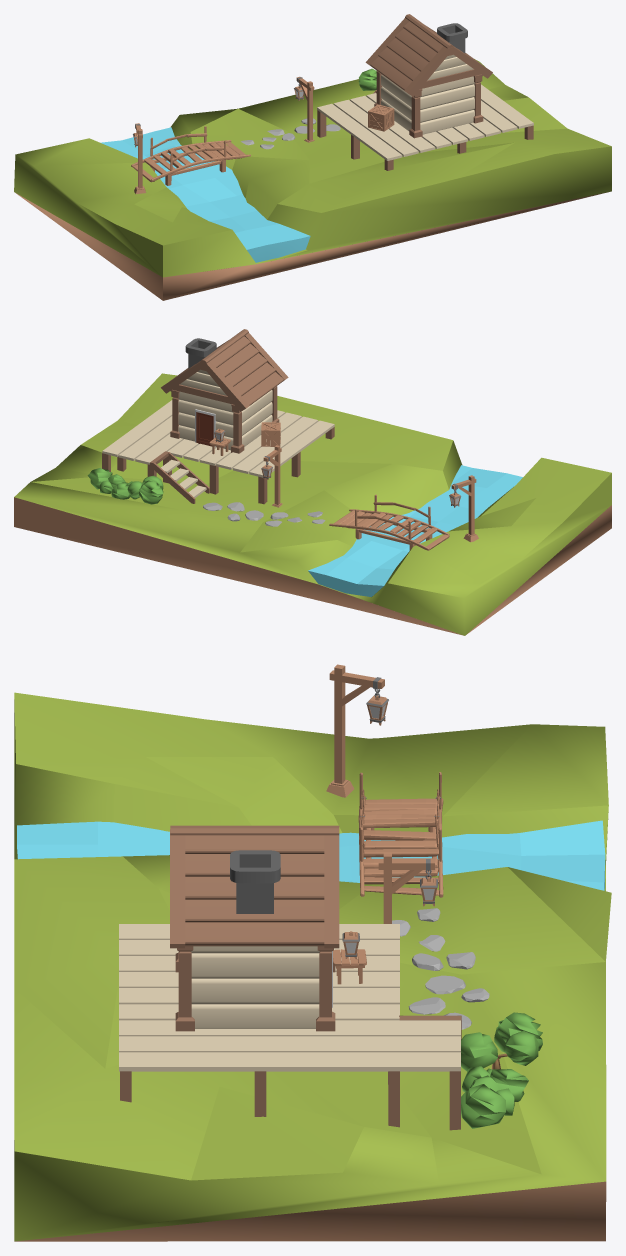
The model's file is nature.glb.
3 renders of one model, top to bottom at view 1: azimuth 30°, elevation 25°; view 2: azimuth 150°, elevation 25°; view 3: azimuth 270°, elevation 25°, orthographic. The views are drawn at different scales.
Parts seen in each view (by area): view 1: Ground, Roof, River, Floor & stairs, Bridge, Stepping stone, Street light, Wooden box, Street light.001; view 2: Ground, Roof, Floor & stairs, River, Bridge, Stepping stone, Street light.001, Small tree, Street light, Bush, Wooden box; view 3: Ground, Roof, Floor & stairs, River, Bridge, Stepping stone, Small tree, Street light.001, Bush, Street light, Bush.001.
Part boxes in pixels (x1=…): Ground: x1=14, y1=59, x2=611, y2=300; Roof: x1=365, y1=14, x2=492, y2=138; River: x1=100, y1=127, x2=310, y2=262; Floor & stairs: x1=317, y1=84, x2=533, y2=170; Bridge: x1=131, y1=126, x2=250, y2=185; Stepping stone: x1=241, y1=118, x2=340, y2=149; Street light: x1=294, y1=76, x2=314, y2=142; Wooden box: x1=368, y1=104, x2=394, y2=131; Street light.001: x1=133, y1=123, x2=145, y2=193; Ground: x1=14, y1=373, x2=611, y2=635; Roof: x1=161, y1=329, x2=288, y2=453; Floor & stairs: x1=102, y1=400, x2=334, y2=504; River: x1=308, y1=465, x2=522, y2=596; Bridge: x1=329, y1=494, x2=449, y2=550; Stepping stone: x1=203, y1=502, x2=325, y2=526; Street light.001: x1=449, y1=475, x2=478, y2=542; Small tree: x1=127, y1=475, x2=163, y2=504; Street light: x1=261, y1=445, x2=282, y2=507; Bush: x1=87, y1=468, x2=125, y2=493; Wooden box: x1=261, y1=422, x2=280, y2=446; Ground: x1=14, y1=692, x2=611, y2=1241; Roof: x1=170, y1=825, x2=339, y2=1031; Floor & stairs: x1=119, y1=924, x2=461, y2=1130; River: x1=17, y1=820, x2=605, y2=890; Bridge: x1=358, y1=772, x2=443, y2=897; Stepping stone: x1=392, y1=908, x2=489, y2=1029; Small tree: x1=461, y1=1012, x2=542, y2=1071; Street light.001: x1=326, y1=664, x2=388, y2=797; Bush: x1=461, y1=1075, x2=514, y2=1128; Street light: x1=378, y1=853, x2=437, y2=923; Bush.001: x1=462, y1=1066, x2=528, y2=1101.
Bounding box in the file's own units: 36.9 × 11.55 × 21.21.
